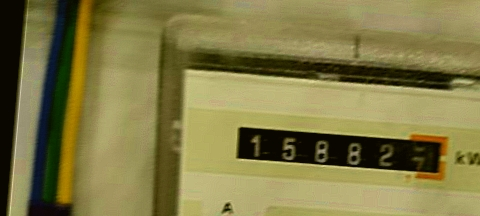1: (248, 129, 264, 156)
2: (378, 139, 395, 164)
5: (280, 131, 298, 159)
7: (411, 150, 426, 170)
8: (313, 135, 331, 162), (346, 137, 363, 163)
screen: (221, 106, 459, 189)
